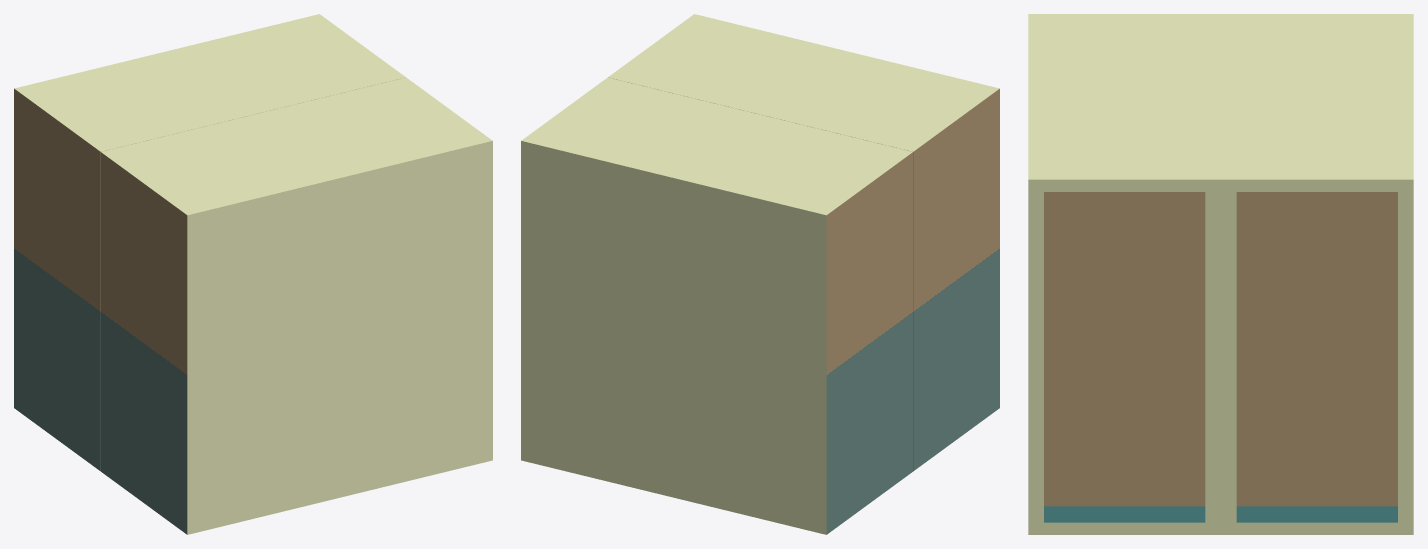
The model's file is VentanaDoble.fbx.
3 views of the same model, side by side, from view 1: azimuth 30°, elevation 25°; view 2: azimuth 150°, elevation 25°; view 3: azimuth 270°, elevation 25° (orthographic). The views are drawn at different scales.
Parts seen in each view (by area): view 1: Cube.018; view 2: Cube.018; view 3: Cube.018.
Part boxes in pixels (x1=…): Cube.018: x1=14, y1=14, x2=492, y2=534; Cube.018: x1=521, y1=14, x2=999, y2=534; Cube.018: x1=1028, y1=14, x2=1413, y2=534.
Size of the model in its own units: 50 by 50 by 49.12.
